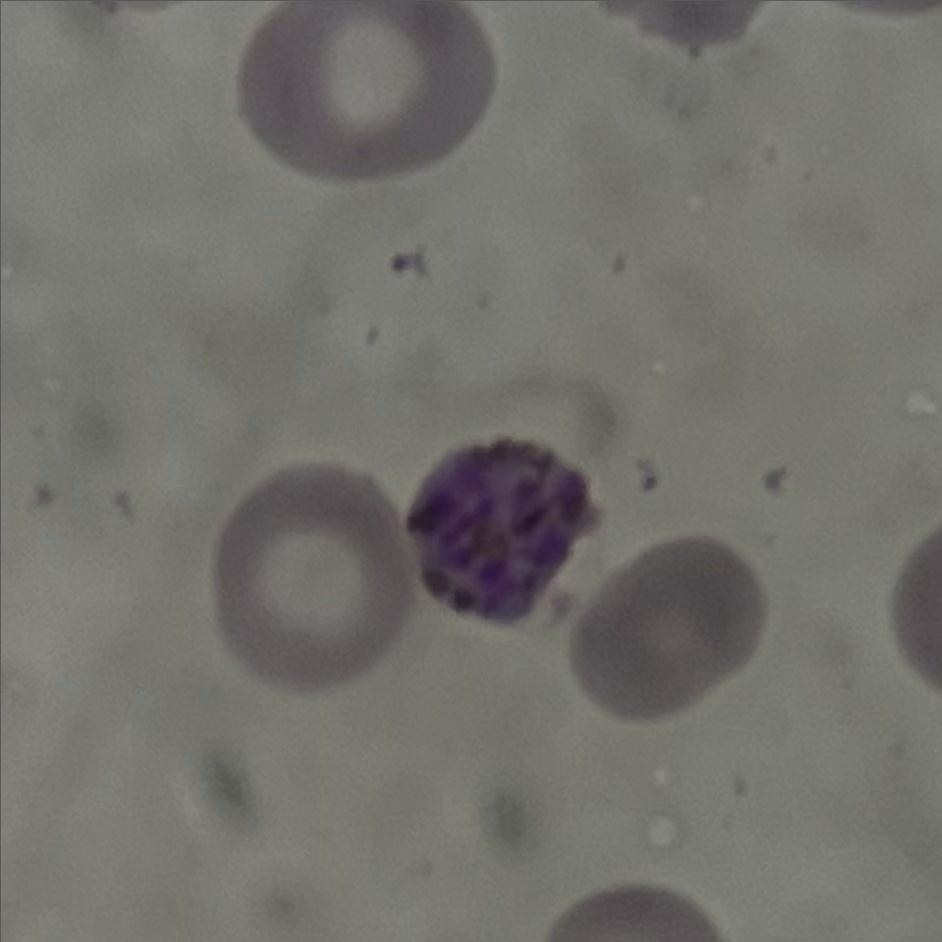Infected: (402, 435, 601, 628)
Uninfected: (235, 0, 501, 187), (215, 462, 394, 686), (567, 539, 766, 717)
